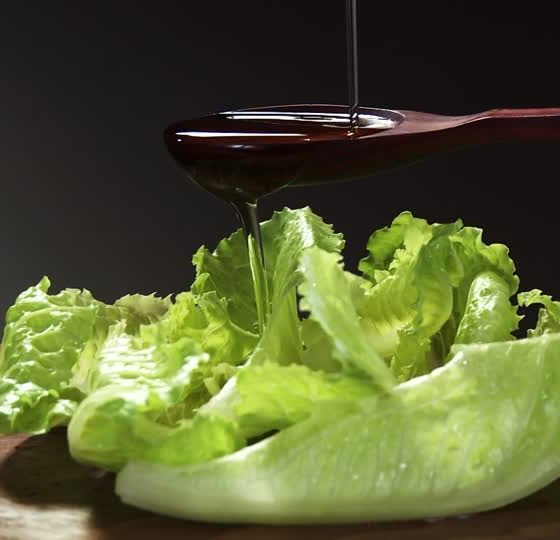chopped lettuce: (18, 209, 559, 514)
